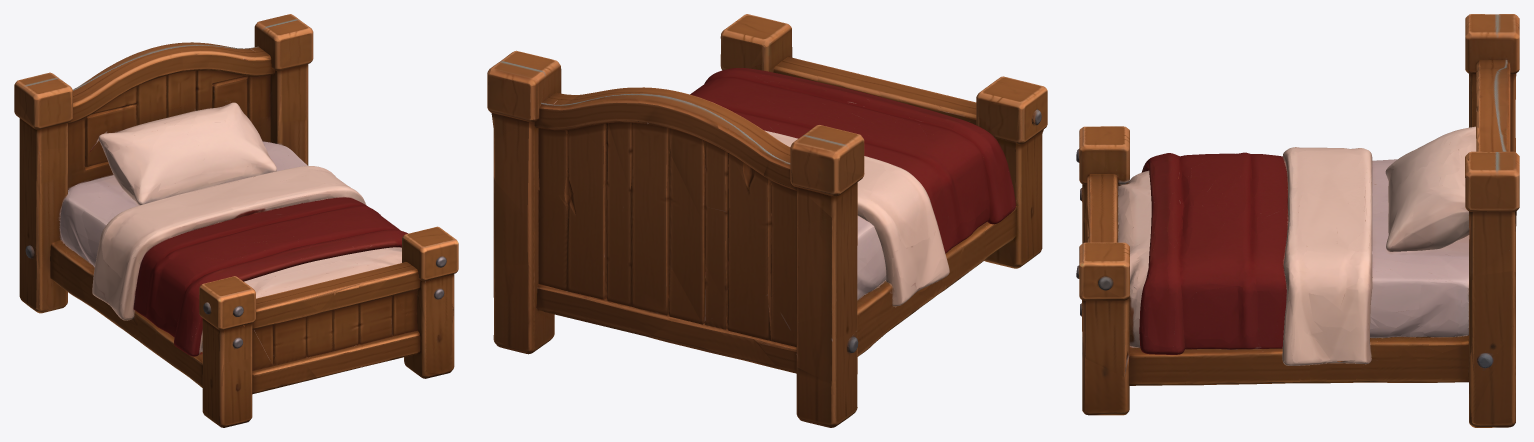
The model's file is Meshy_AI_Cozy_Wooden_Bed_1104024520_texture.glb.
The picture shows the model from 3 angles, left to right: view 1: azimuth 30°, elevation 25°; view 2: azimuth 150°, elevation 25°; view 3: azimuth 270°, elevation 25°; orthographic projection. The views are drawn at different scales.
Parts seen in each view (by area): view 1: output_unwrapped; view 2: output_unwrapped; view 3: output_unwrapped.
Boxes of the visible parts, x1=… form: output_unwrapped: x1=14, y1=14, x2=458, y2=427; output_unwrapped: x1=487, y1=14, x2=1047, y2=427; output_unwrapped: x1=1076, y1=14, x2=1519, y2=427.
Size of the model in its own units: 1.62 by 1.25 by 1.9.
1 material, 1 textured.
